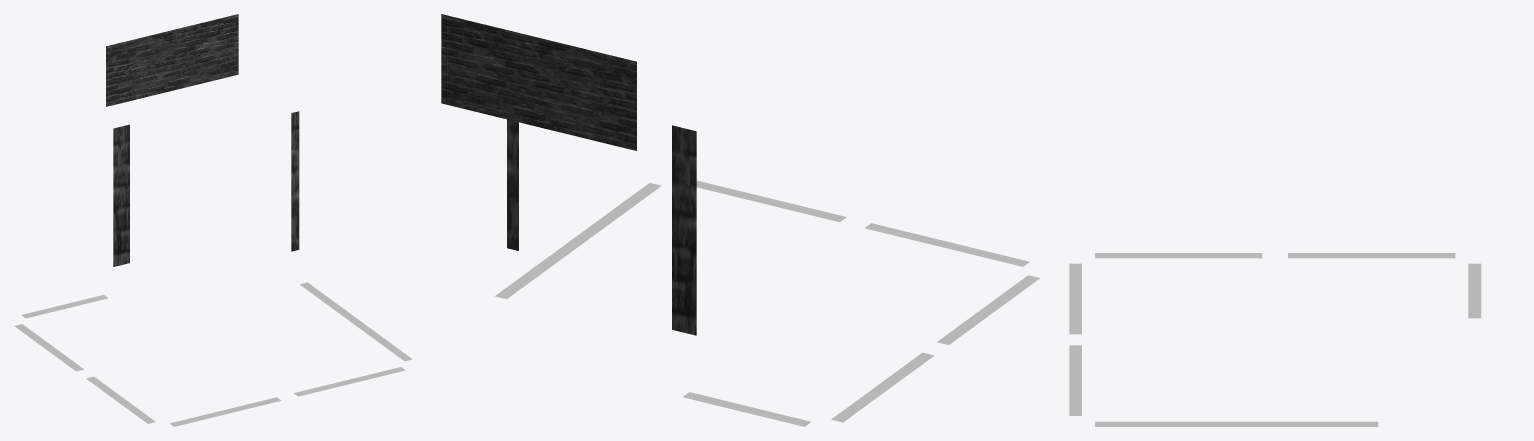
Rendered from missinggeo.fbx.
The picture shows the model from 3 angles, left to right: view 1: azimuth 30°, elevation 25°; view 2: azimuth 150°, elevation 25°; view 3: azimuth 270°, elevation 25°; orthographic projection. The views are drawn at different scales.
Visible parts, largest first — view 1: missinggeo; view 2: missinggeo; view 3: missinggeo.
Boxes of the visible parts, x1,y1,x2,y2 form: missinggeo: (14,14,412,426); missinggeo: (441,14,1039,426); missinggeo: (1069,253,1481,426).
Bounding box in the file's own units: 512 × 432 × 560.
Materials: 3 (2 with a texture image).
